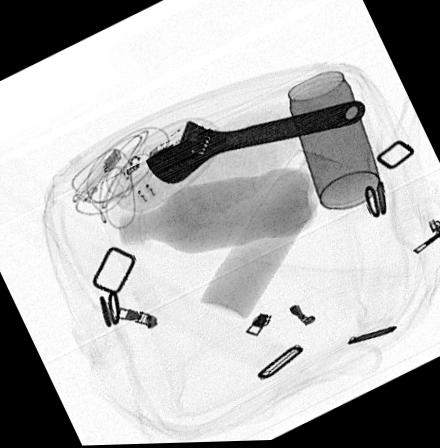Wrench: (143, 101, 367, 185)
